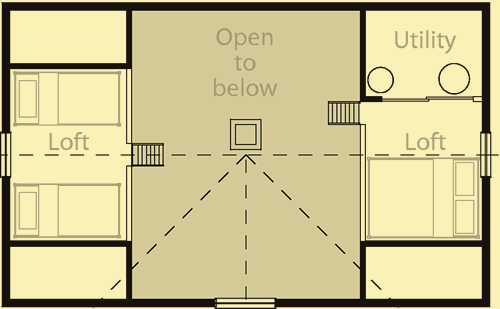bed: (367, 155, 480, 241), (12, 70, 122, 127), (13, 181, 123, 238)
stairs: (326, 99, 360, 127), (129, 142, 166, 167)
window: (213, 296, 280, 309), (2, 132, 13, 177), (480, 133, 491, 178)
